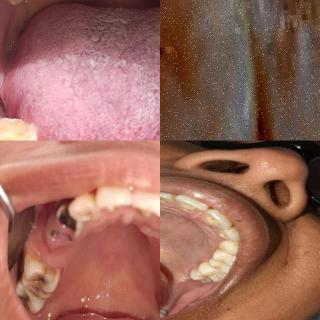cavities: (58, 206, 82, 238), (32, 269, 52, 295)
maligned: (160, 190, 179, 210)
stains: (213, 228, 248, 241), (177, 197, 204, 213), (198, 214, 230, 226), (211, 241, 241, 253), (83, 207, 101, 225), (105, 202, 123, 218), (133, 204, 148, 220), (214, 248, 232, 259), (160, 194, 179, 204), (156, 212, 160, 232)
